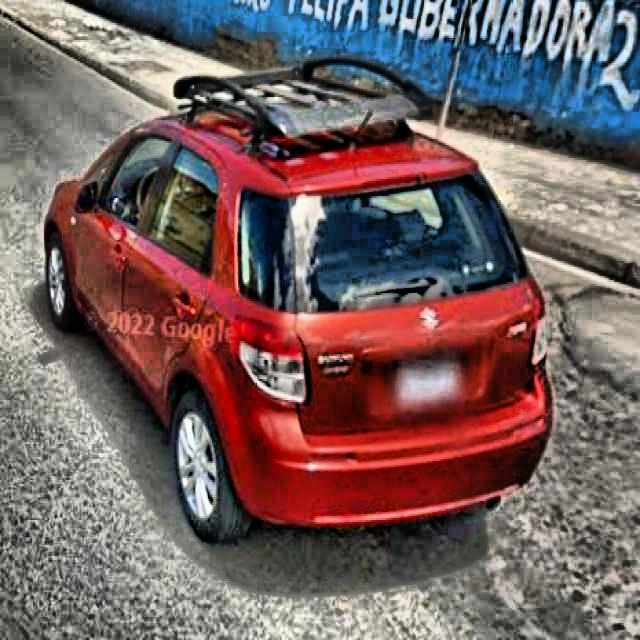carro: (42, 74, 560, 538)
